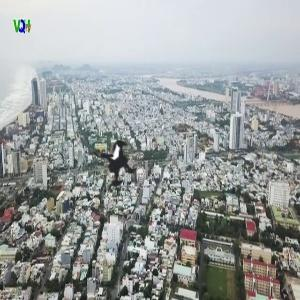drone: (70, 113, 175, 218)
